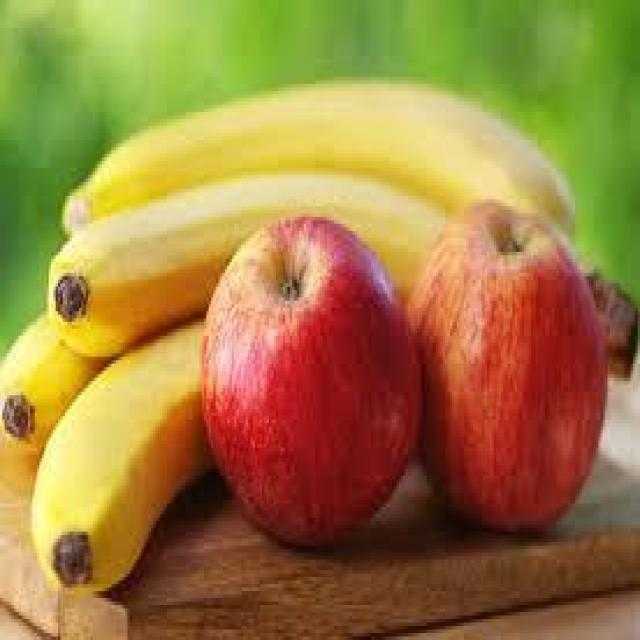maca: (0, 73, 638, 594)
